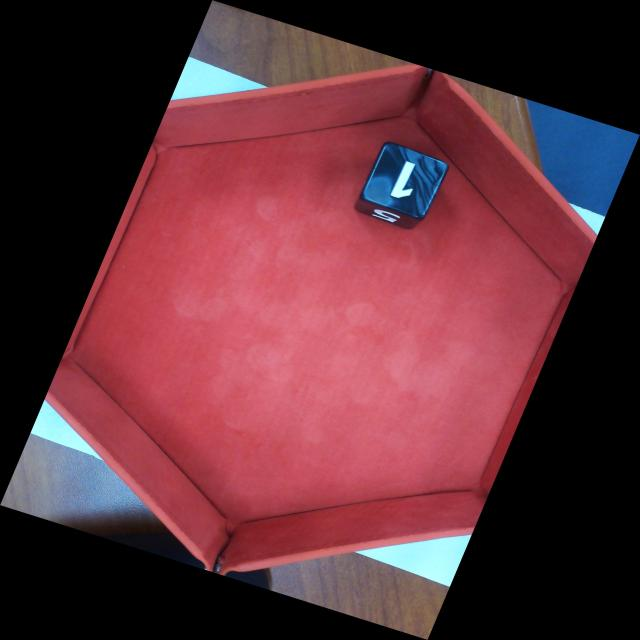dice: (369, 145, 444, 215)
